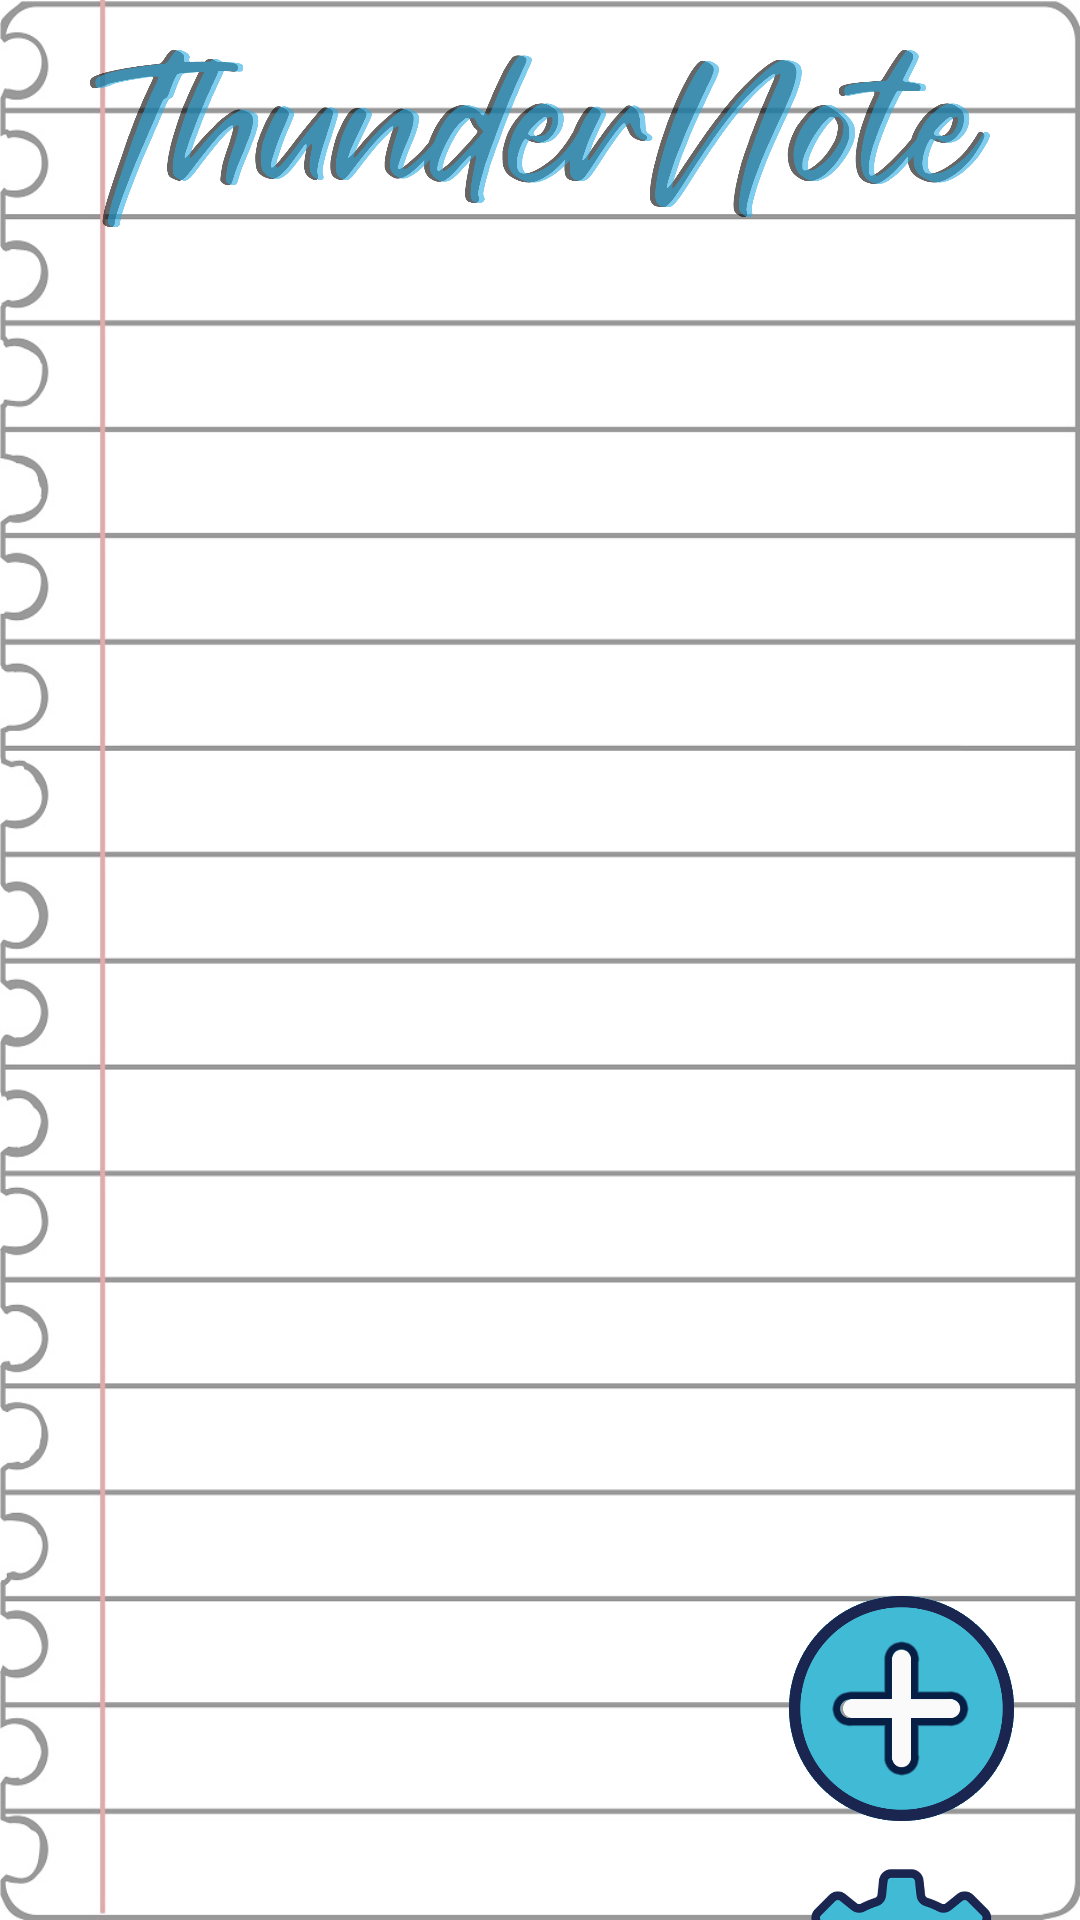

Icons on this 1080 x 1920 Android screen, each with the point to tap as (x,y):
agregar: (901,1708)
